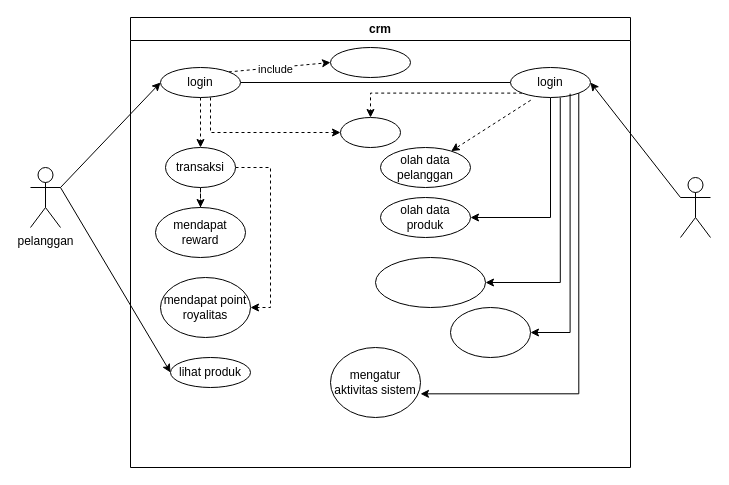
The diagram is 729 pixels wide and 485 high, and some of its shapes have lost their labels. Each missing label, with the box of its shape:
admin: (680, 176, 710, 238)
chat: (340, 116, 400, 148)
mengatur sistem royalitas: (374, 256, 486, 308)
olah reward: (450, 306, 530, 358)
register: (330, 46, 410, 78)
